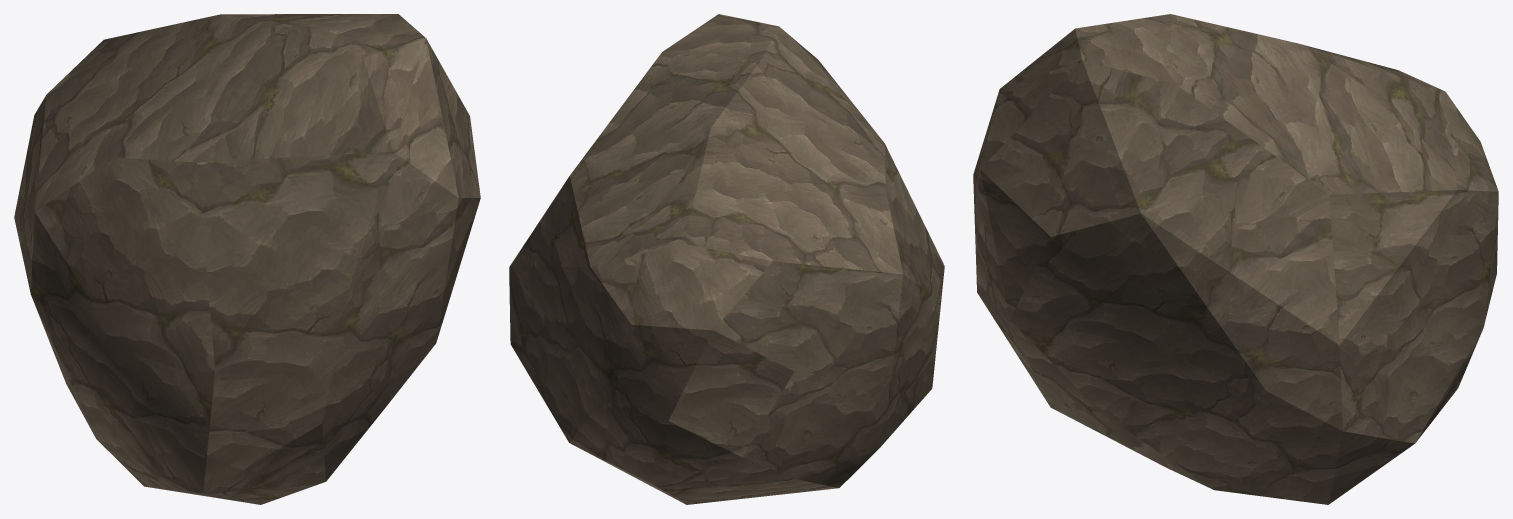
The model's file is grock_f.glb.
3 renders of one model, left to right at view 1: azimuth 30°, elevation 25°; view 2: azimuth 150°, elevation 25°; view 3: azimuth 270°, elevation 25°, orthographic. The views are drawn at different scales.
Parts seen in each view (by area): view 1: model; view 2: model; view 3: model.
Part boxes in pixels (x1,y1,x2,y2): model: (14, 14, 480, 504); model: (509, 14, 944, 504); model: (973, 14, 1498, 504).
Size of the model in its own units: 1.07 by 1.15 by 1.17.
1 material, 1 textured.
